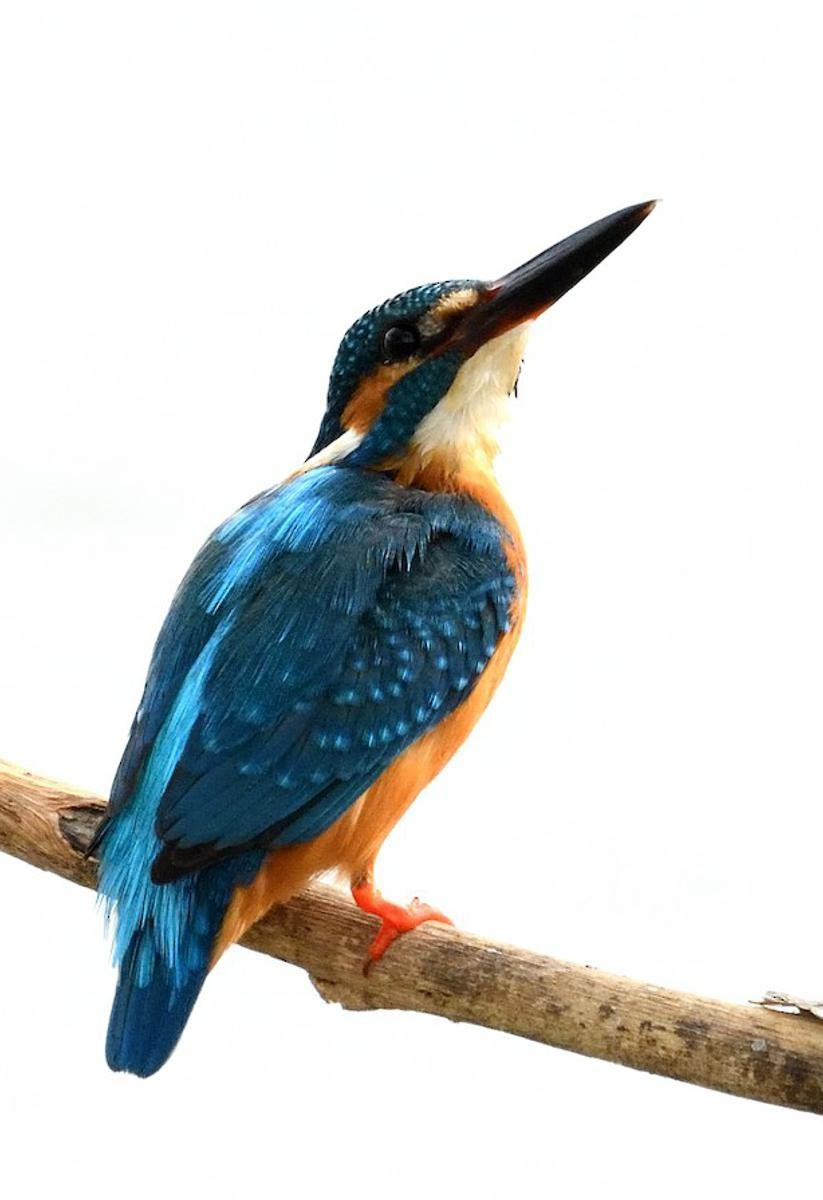kingfisher: (34, 166, 689, 1078)
